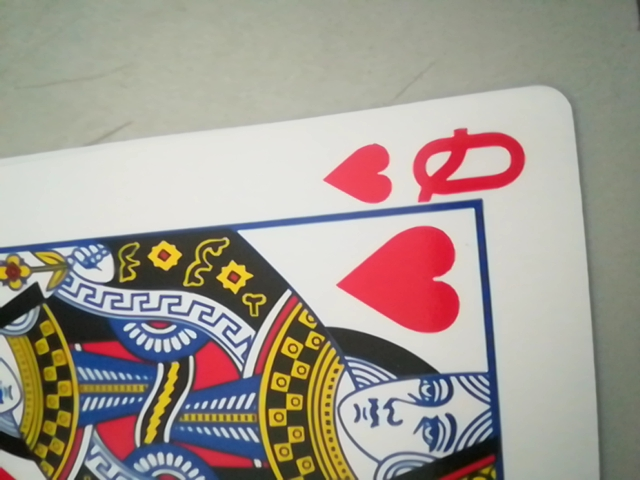hx q: (323, 124, 527, 211)
